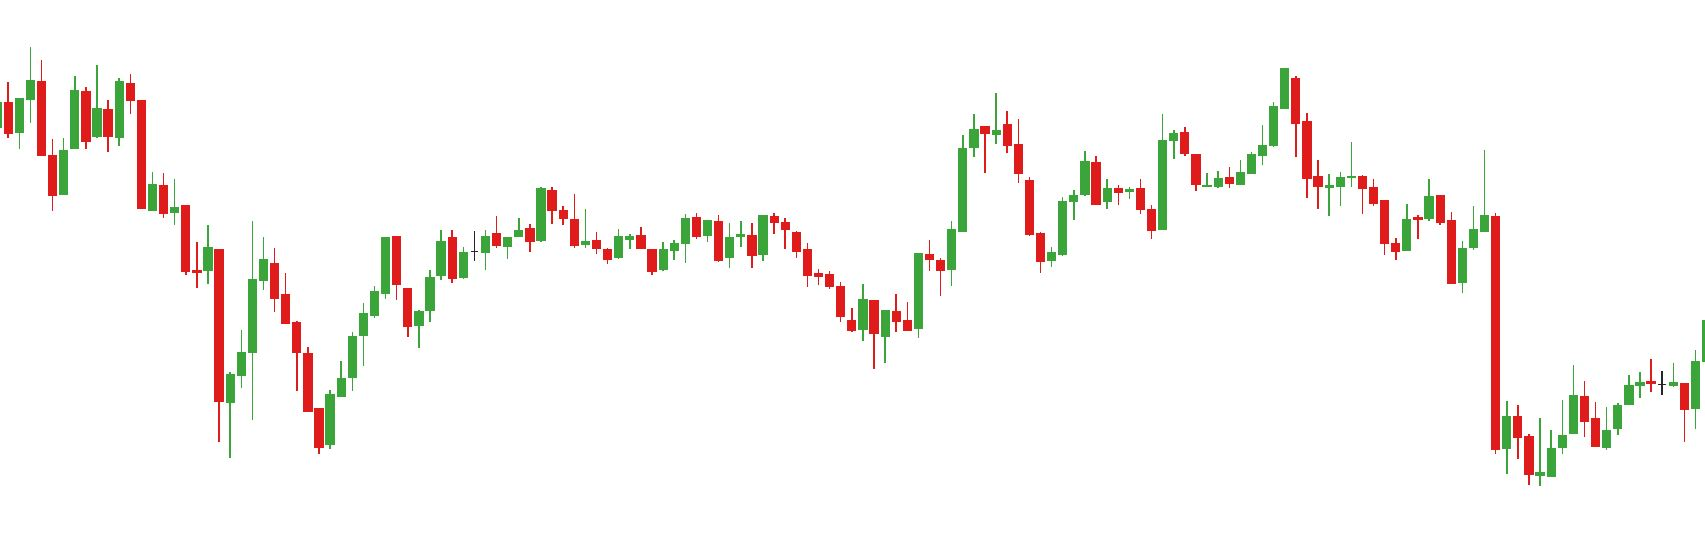buy: (208, 286, 337, 460)
sell: (1156, 60, 1302, 164), (1424, 134, 1510, 264)
